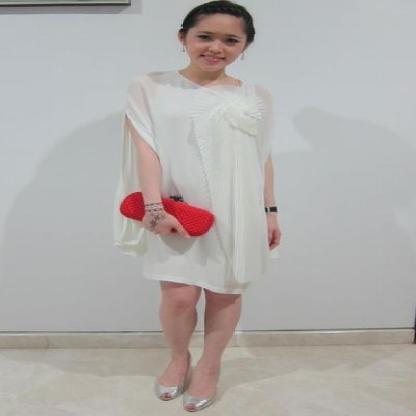bag: (120, 192, 211, 236)
dress: (103, 67, 282, 300)
shoe: (147, 381, 211, 414)
